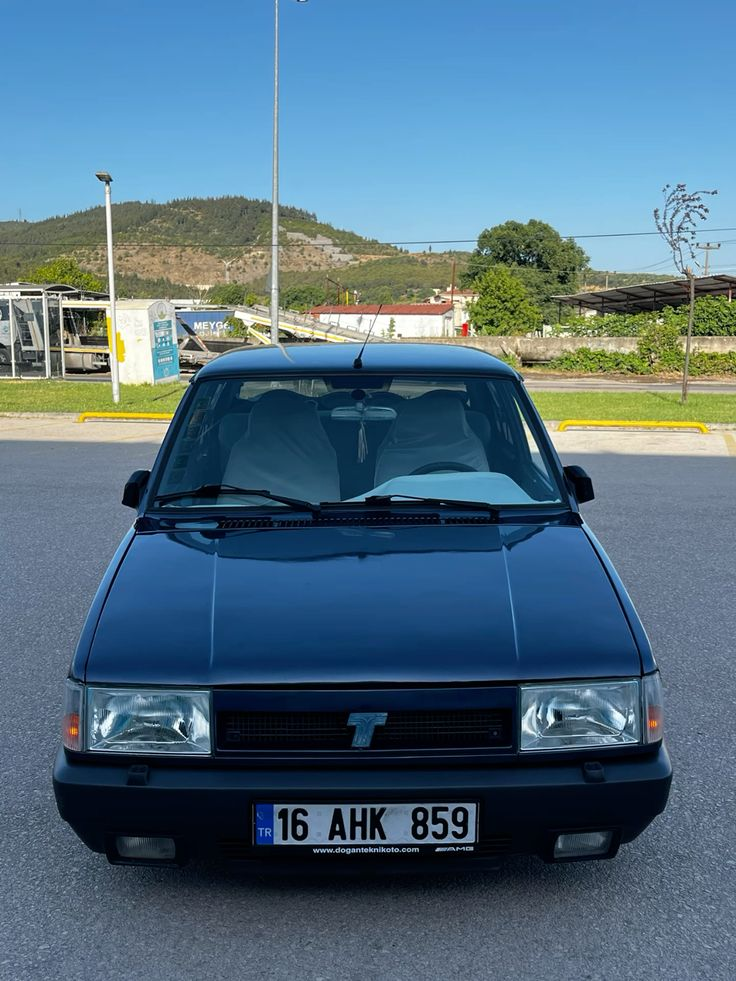plate: (251, 805, 476, 854)
